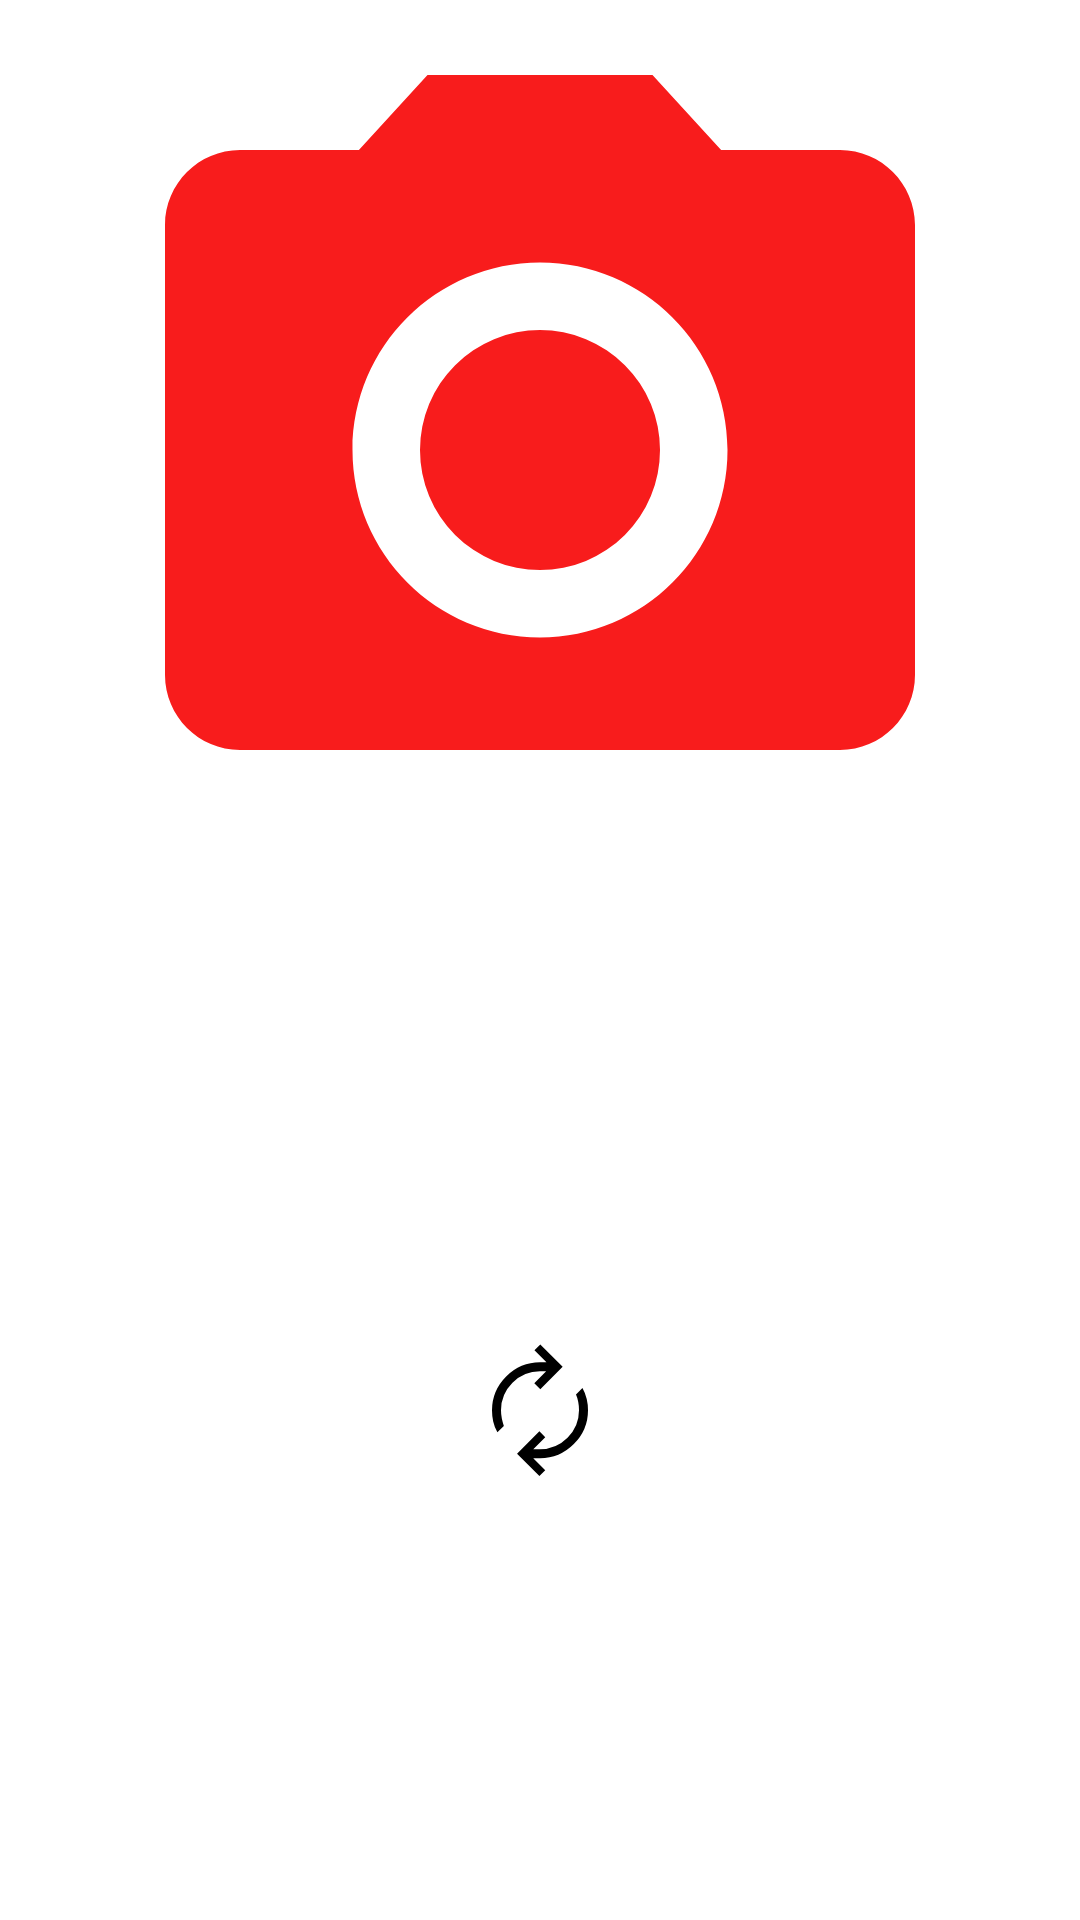

Screen size 1080px×1920px. Icon name, then its box in pixels as (left=x1, top=y1, right=x2, bottom=y2):
autorenew: (left=492, top=1344, right=588, bottom=1476)
